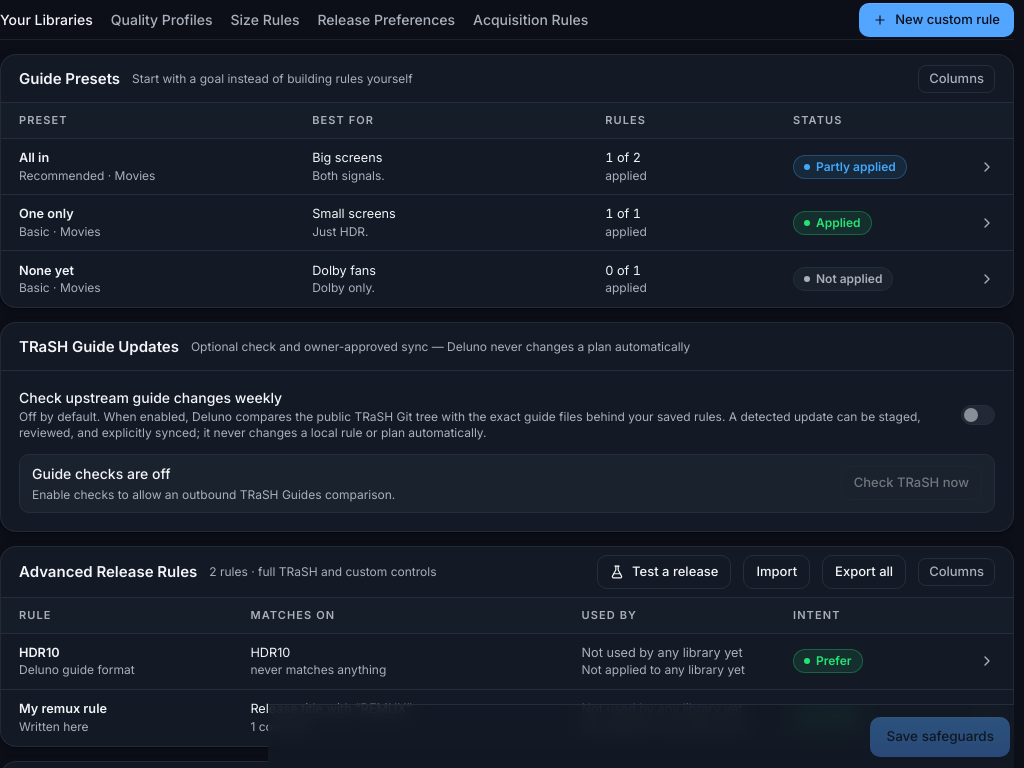
Test case: Test a release › says the typed verdict could not be run when the plan cannot be read, and still shows the rule matches
Click the button "Test a release": coordinates (664, 572) [597, 554, 731, 588]
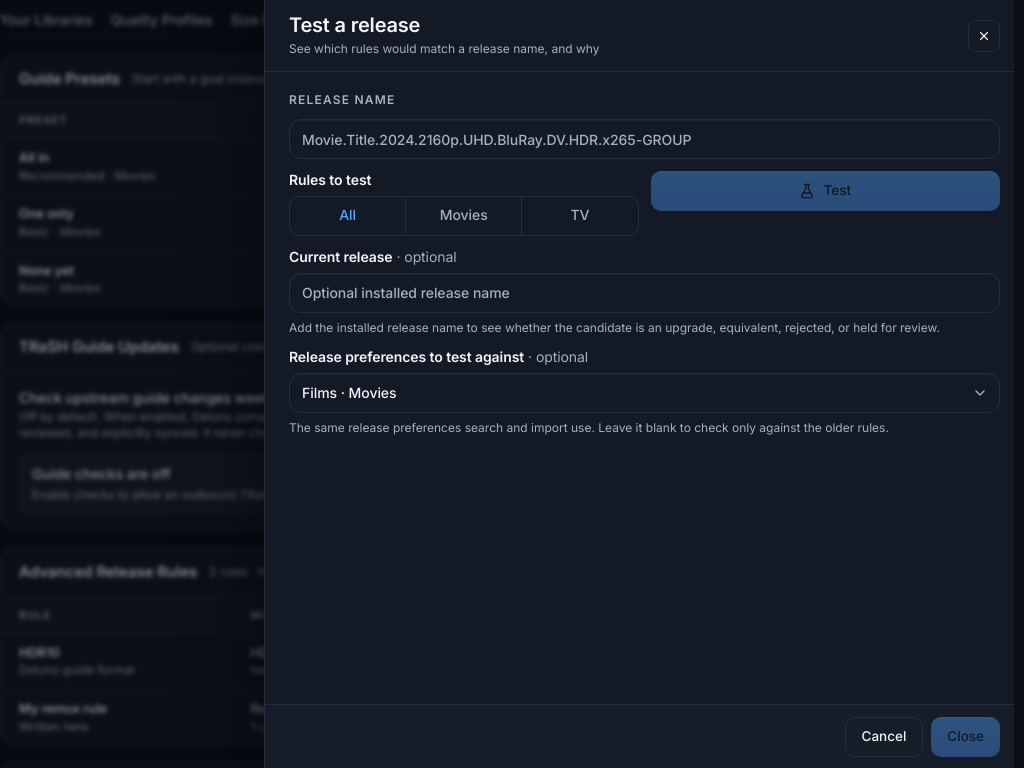
In the field named "Release name to test": coordinates (644, 139) [289, 119, 1000, 159], type "Heat.1995.2160p.HDR10-GRP"
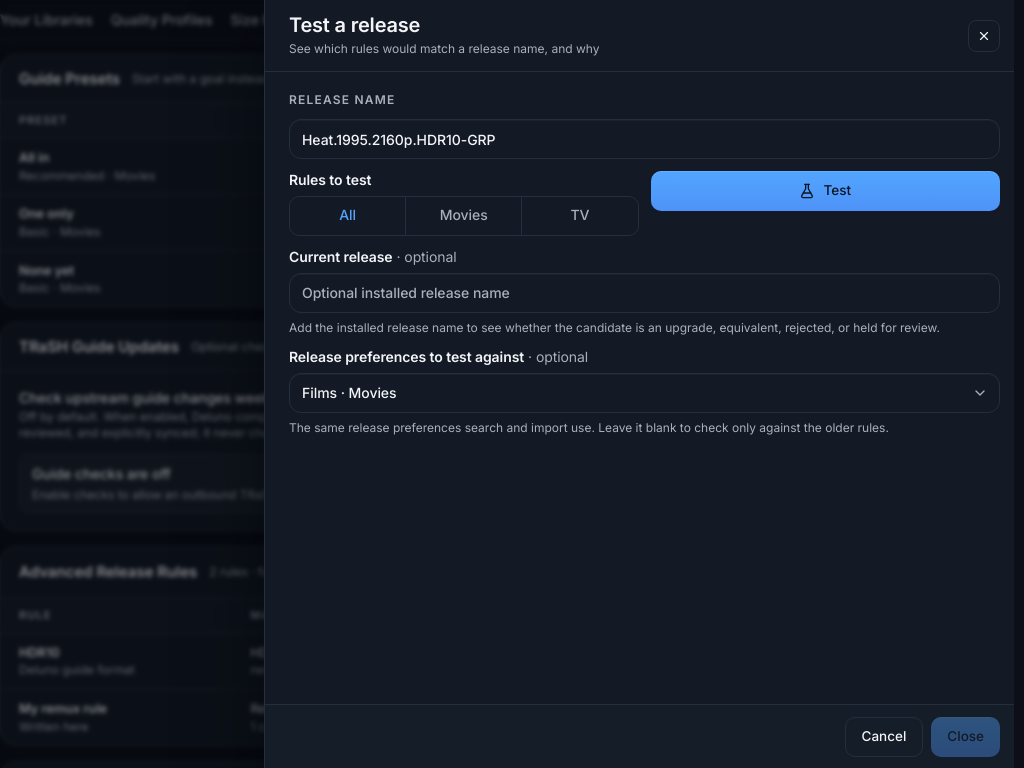
Click the button "Test": coordinates (825, 191) [650, 171, 1000, 211]
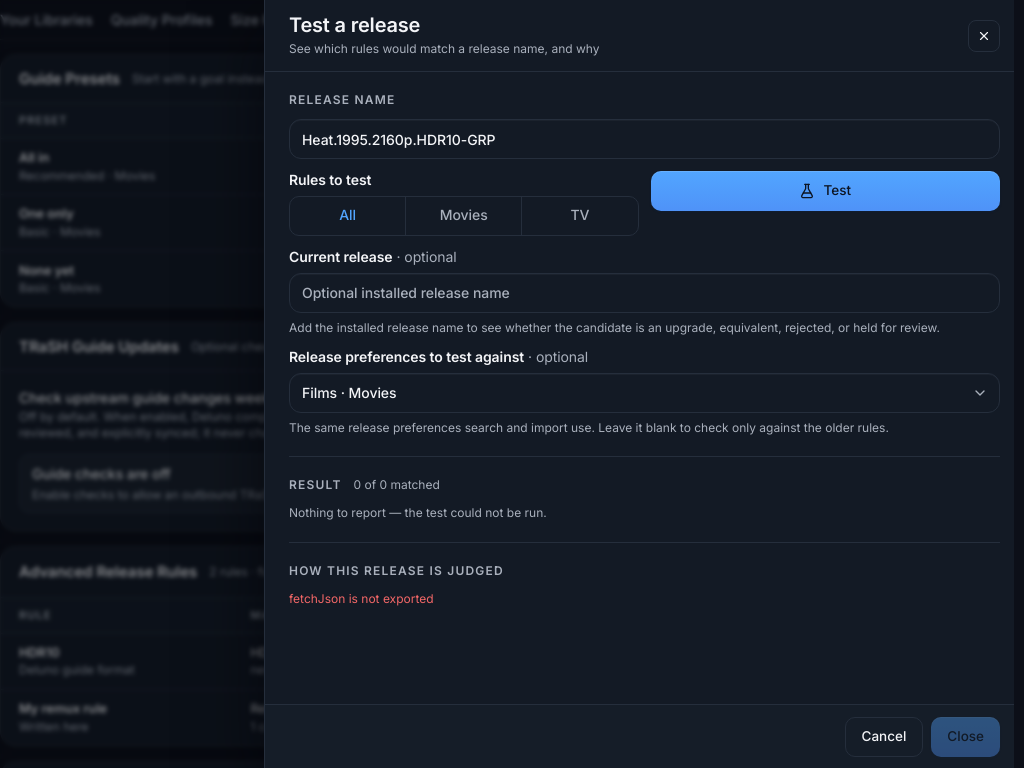
Now the message "fetchJson is not exported" is shown, box [289, 592, 434, 606]
